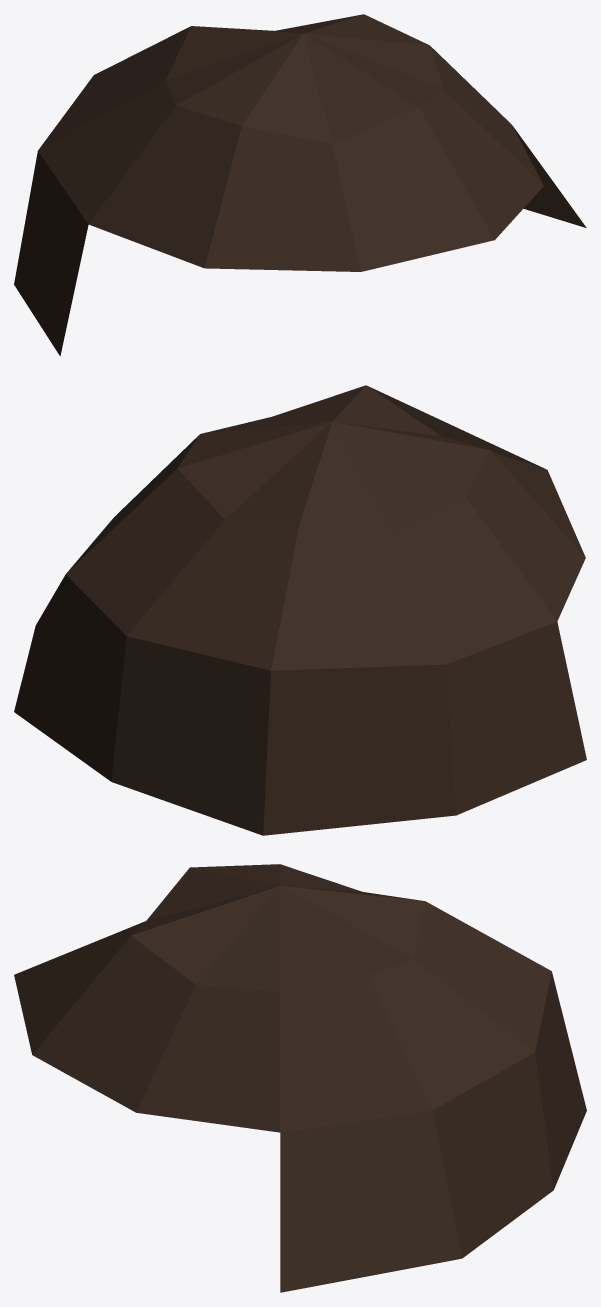
File: boucles.glb
3 views of the same model, one above another, from view 1: azimuth 30°, elevation 25°; view 2: azimuth 150°, elevation 25°; view 3: azimuth 270°, elevation 25° (orthographic). The views are drawn at different scales.
Parts seen in each view (by area): view 1: boucles; view 2: boucles; view 3: boucles.
Part boxes in pixels (x1,y1,x2,y2): boucles: (14, 14, 586, 356); boucles: (14, 385, 586, 835); boucles: (14, 864, 586, 1292).
Bounding box in the file's own units: 2.34 × 1.12 × 2.18.
1 material, 1 textured.
